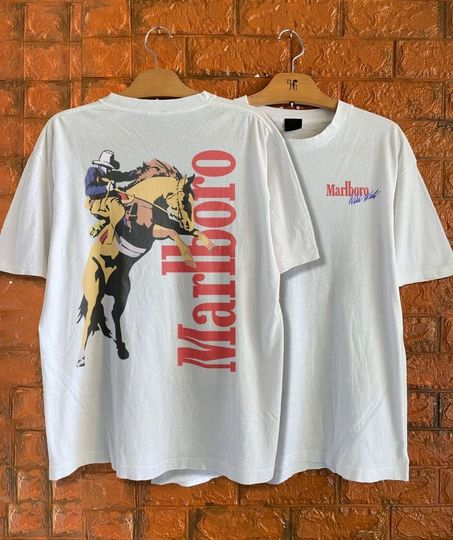design: (72, 147, 239, 374), (323, 177, 381, 207)
